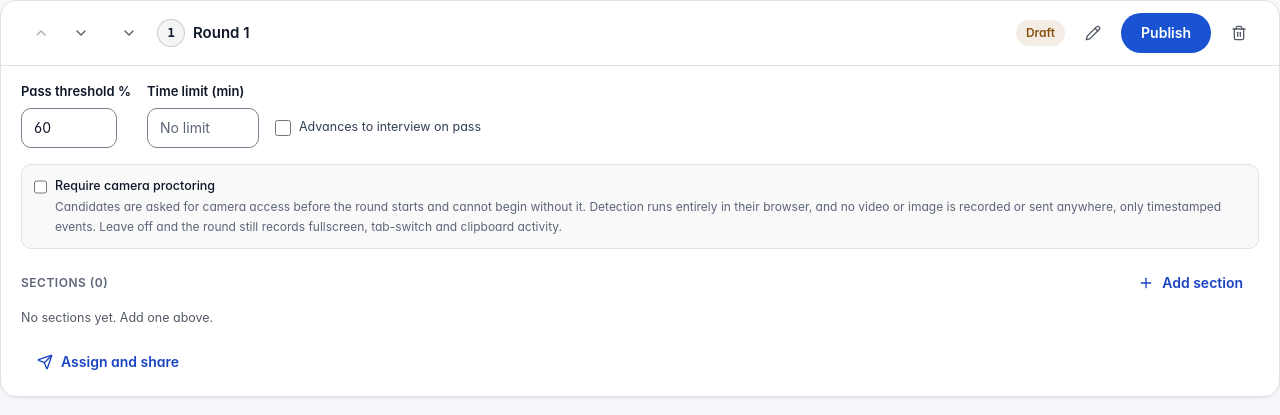
Test: round panel › names the icon-only cancel in the rename form (H1)
Click the button named "Rename round Round 1" at (1093, 33), box [1073, 13, 1113, 53]
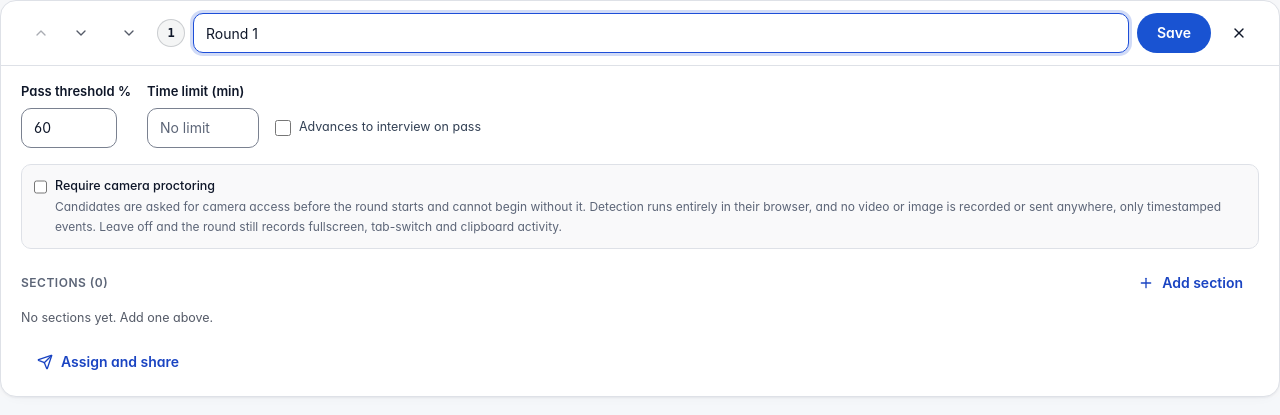
Now the button named "Cancel" is shown, box [1219, 13, 1259, 53]
